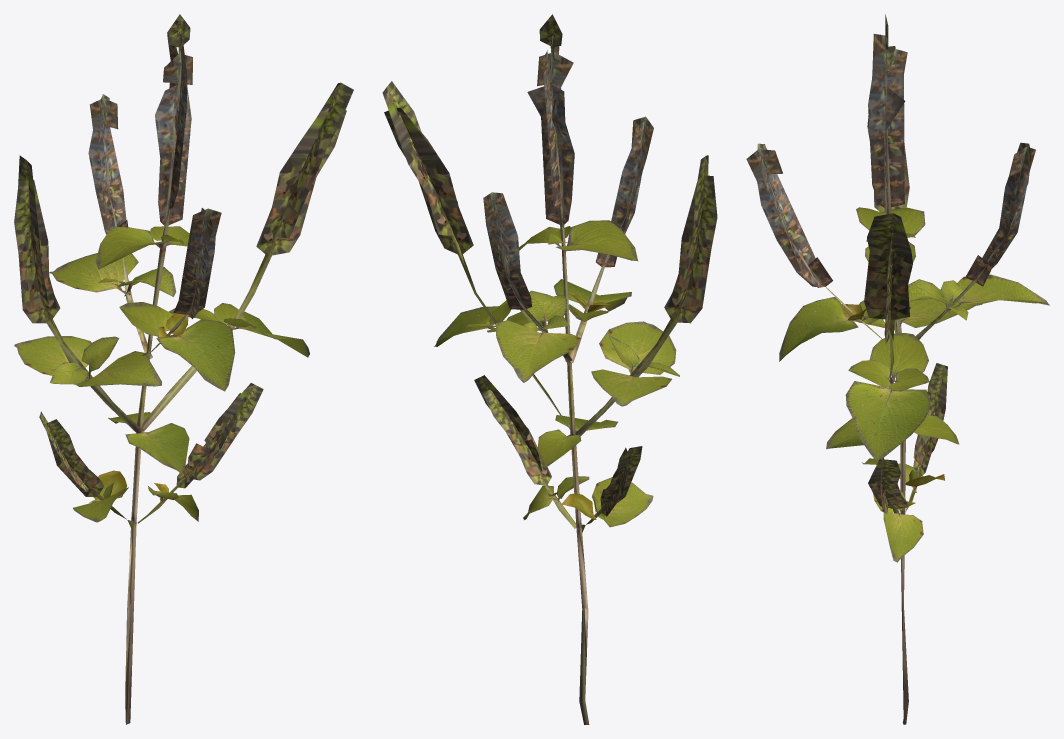
File: cover_shrub.glb
The picture shows the model from 3 angles, left to right: view 1: azimuth 30°, elevation 25°; view 2: azimuth 150°, elevation 25°; view 3: azimuth 270°, elevation 25°; orthographic projection. The views are drawn at different scales.
Parts seen in each view (by area): view 1: cover_shrub; view 2: cover_shrub; view 3: cover_shrub.
Boxes of the visible parts, x1,y1,x2,y2 form: cover_shrub: (14,14,353,724); cover_shrub: (382,14,717,724); cover_shrub: (746,14,1049,724).
Bounding box in the file's own units: 0.2006 × 0.4028 × 0.1512.
Materials: 1 (1 with a texture image).
